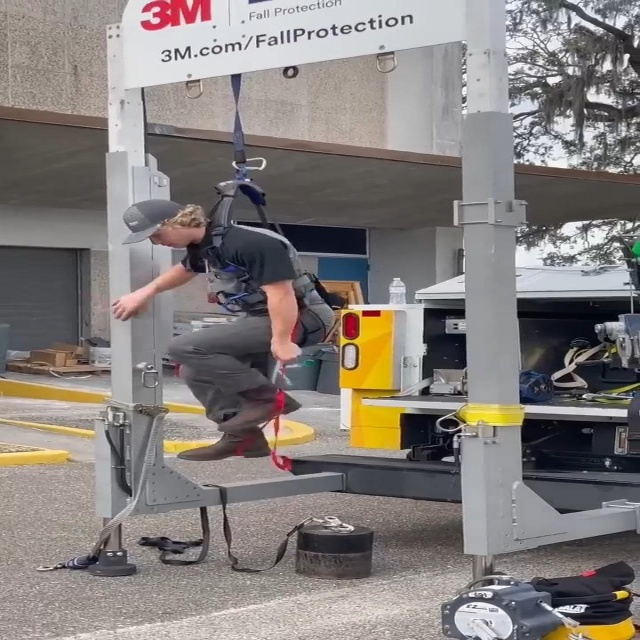Arnes_seguridad: (171, 166, 341, 357)
